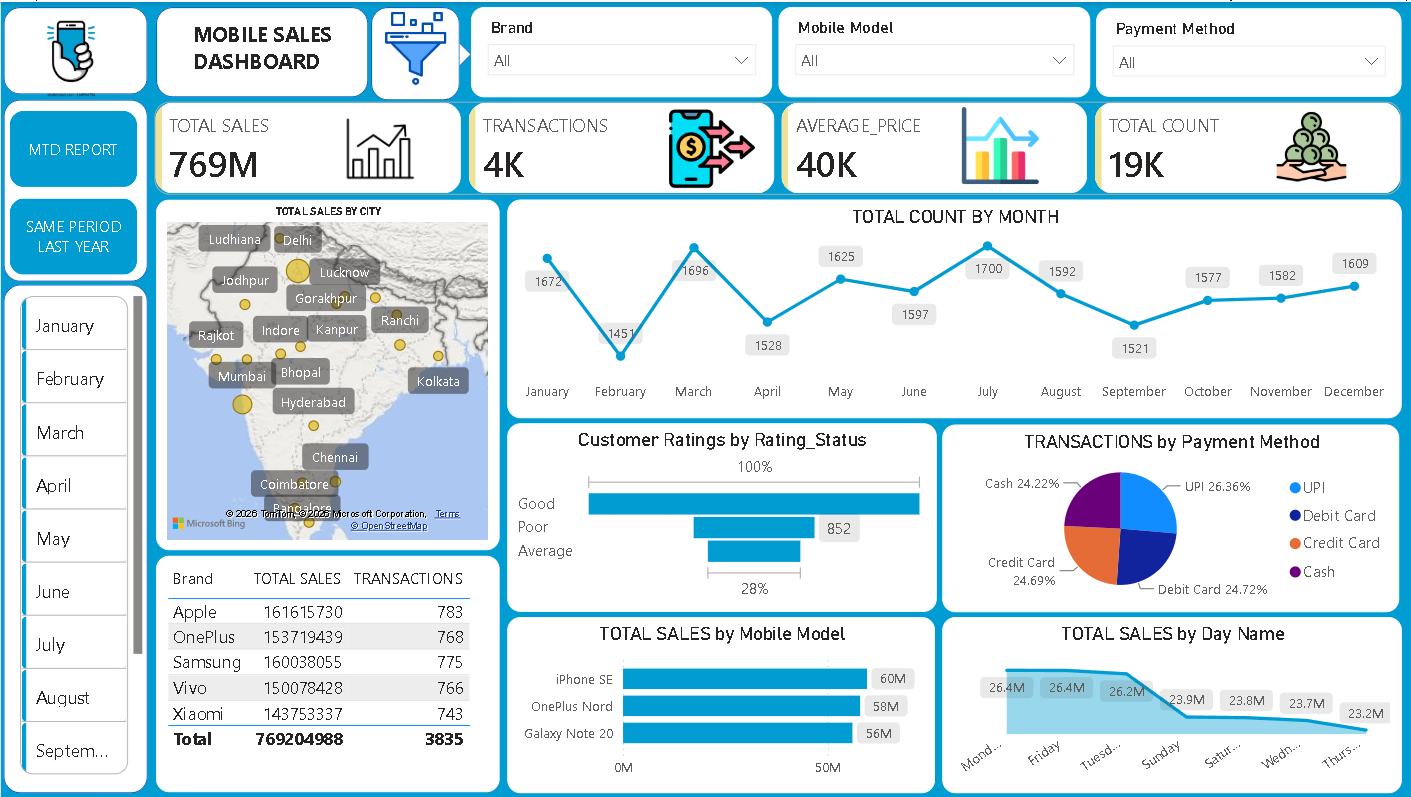

The page's visual inventory and layout, read from the dashboard file:
{"tool":"powerbi","page":{"name":"DASHBOARD","canvas":[1280,720],"ordinal":0},"visuals":[{"type":"shape","box":[340.1,17.7,85.7,58.5],"z":0},{"type":"shape","box":[2.3,4.7,130.2,79.1],"z":1000},{"type":"image","box":[17.8,8.2,90.6,78.2],"z":2000},{"type":"shape","box":[2.7,87.8,130.4,164.7],"z":3000},{"type":"shape","box":[2.7,255.2,130.4,459.7],"z":4000},{"type":"cardVisual","title":"dcvvx","fields":{"Data":["Mobile_sales_data.total sales","Mobile_sales_data.transactions","Mobile_sales_data.Average_price","Mobile_sales_data.TOTAL COUNT"]},"box":[123.8,76.2,1156.5,112.9],"z":5000,"group":"g1"},{"type":"advancedSlicerVisual","fields":{"Values":["custom_calender.Column1.Variation.Date Hierarchy.Month"]},"box":[12.3,260.7,120.8,448.7],"z":5000},{"type":"group","id":"g1","title":"Group 2","box":[123.8,76.2,1156.5,112.9],"z":6000},{"type":"slicer","fields":{"Values":["Mobile_sales_data.Mobile Model"]},"box":[702,4.1,281.6,81.6],"z":7000},{"type":"image","box":[823,95.8,159.1,69.8],"z":7000,"group":"g2"},{"type":"slicer","fields":{"Values":["Mobile_sales_data.Brand"]},"box":[424.5,4.1,272.1,81.6],"z":8000},{"type":"slicer","fields":{"Values":["Mobile_sales_data.Payment Method"]},"box":[989.1,5.4,276.2,80.3],"z":9000},{"type":"shape","box":[334.7,4.1,80.3,84.4],"z":10000},{"type":"image","box":[280.7,94.5,123.1,77.4],"z":10000,"group":"g2"},{"type":"image","box":[1119,98.3,130,67.2],"z":10500,"group":"g2"},{"type":"image","box":[334.7,8.2,80.3,68],"z":11000},{"type":"image","box":[587.8,94.5,107.9,77.4],"z":11000,"group":"g2"},{"type":"group","id":"g2","title":"Group 1","box":[280.7,94.5,968.3,77.4],"z":11001,"group":"g1"},{"type":"shape","box":[140.1,4.1,191.8,81.6],"z":12000},{"type":"textbox","box":[168.7,10.9,140.1,65.3],"z":13000},{"type":"map","title":"TOTAL SALES BY CITY","fields":{"Category":["Mobile_sales_data.City"],"Size":["Mobile_sales_data.TOTAL SALES"]},"box":[140.1,178.2,310.2,317],"z":14000},{"type":"lineChart","title":"TOTAL COUNT BY MONTH","fields":{"Category":["custom_calender.Column1.Variation.Date Hierarchy.Month"],"Y":["Mobile_sales_data.TOTAL COUNT"]},"box":[457.1,178.2,808.2,197.3],"z":15000},{"type":"funnel","title":"Customer Ratings by Rating_Status","fields":{"Category":["Mobile_sales_data.Rating_status"],"Y":["CountNonNull(Mobile_sales_data.Customer Ratings)"]},"box":[457.1,381,387.8,170.1],"z":16000},{"type":"pieChart","fields":{"Category":["Mobile_sales_data.Payment Method"],"Y":["Mobile_sales_data.TRANSACTIONS"]},"box":[850.3,381.6,412.8,169.8],"z":17000},{"type":"clusteredBarChart","fields":{"Category":["Mobile_sales_data.Mobile Model"],"Y":["Mobile_sales_data.TOTAL SALES"]},"box":[457.1,555.1,386.4,159.2],"z":18000},{"type":"areaChart","fields":{"Category":["custom_calender.Day Name"],"Y":["Mobile_sales_data.TOTAL SALES"]},"box":[850.3,555.1,415,159.2],"z":19000},{"type":"tableEx","fields":{"Values":["Mobile_sales_data.Brand","Mobile_sales_data.TOTAL SALES","Mobile_sales_data.TRANSACTIONS"]},"box":[140.1,500.7,310.2,213.6],"z":20000},{"type":"pageNavigator","box":[8.2,98,115.6,148.3],"z":21000}]}

Visuals, with their boxes in screenshot pixels (x1, y1, x2, y2), scaled from the page's 1280x720 canvas onto the 1411x797 screenshot:
shape: box(375, 20, 469, 84)
shape: box(3, 5, 146, 93)
image: box(20, 9, 119, 96)
shape: box(3, 97, 147, 280)
shape: box(3, 282, 147, 791)
"dcvvx" cardVisual: box(136, 84, 1410, 209)
advancedSlicerVisual - custom_calender.Column1.Variation.Date Hierarchy.Month: box(14, 289, 147, 785)
"Group 2" group: box(136, 84, 1410, 209)
slicer - Mobile_sales_data.Mobile Model: box(774, 5, 1084, 95)
image: box(907, 106, 1083, 183)
slicer - Mobile_sales_data.Brand: box(468, 5, 768, 95)
slicer - Mobile_sales_data.Payment Method: box(1090, 6, 1395, 95)
shape: box(369, 5, 457, 98)
image: box(309, 105, 445, 190)
image: box(1234, 109, 1377, 183)
image: box(369, 9, 457, 84)
image: box(648, 105, 767, 190)
"Group 1" group: box(309, 105, 1377, 190)
shape: box(154, 5, 366, 95)
textbox: box(186, 12, 340, 84)
"TOTAL SALES BY CITY" map: box(154, 197, 496, 548)
"TOTAL COUNT BY MONTH" lineChart: box(504, 197, 1395, 416)
"Customer Ratings by Rating_Status" funnel: box(504, 422, 931, 610)
pieChart - Mobile_sales_data.Payment Method x Mobile_sales_data.TRANSACTIONS: box(937, 422, 1392, 610)
clusteredBarChart - Mobile_sales_data.Mobile Model x Mobile_sales_data.TOTAL SALES: box(504, 614, 930, 791)
areaChart - custom_calender.Day Name x Mobile_sales_data.TOTAL SALES: box(937, 614, 1395, 791)
tableEx - Mobile_sales_data.Brand x Mobile_sales_data.TOTAL SALES: box(154, 554, 496, 791)
pageNavigator: box(9, 108, 136, 273)
